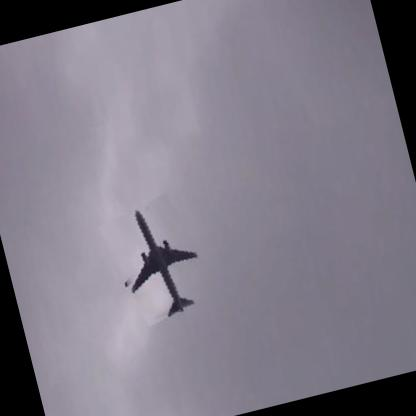plane: (101, 191, 216, 328)
